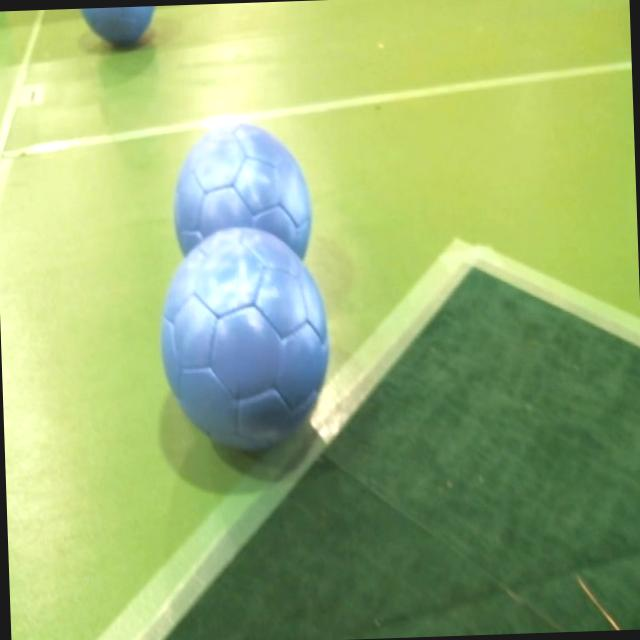blue_ball: (157, 225, 334, 456), (174, 115, 316, 271), (81, 6, 158, 48)
